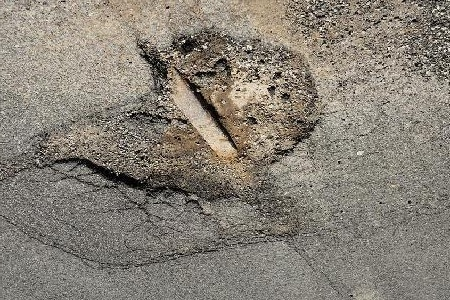pothole: (32, 24, 326, 205)
